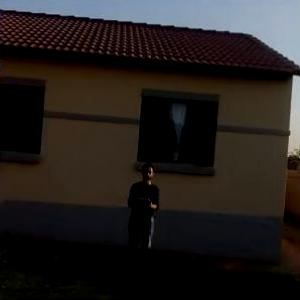follow: (121, 155, 164, 290)
